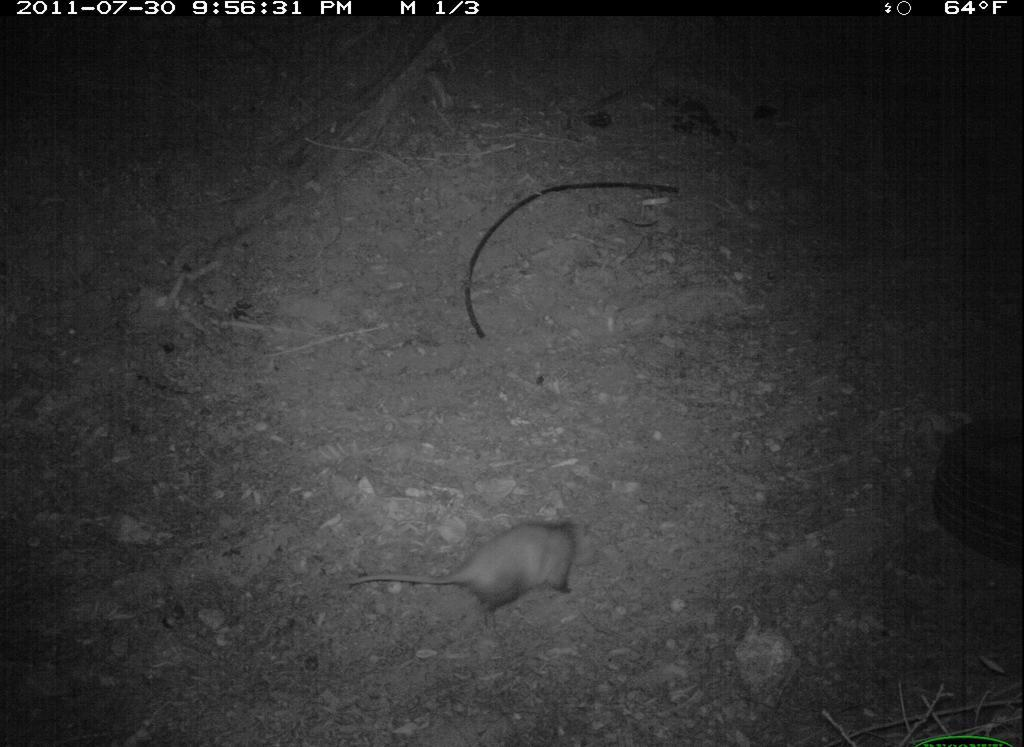opossum: (340, 516, 615, 624)
